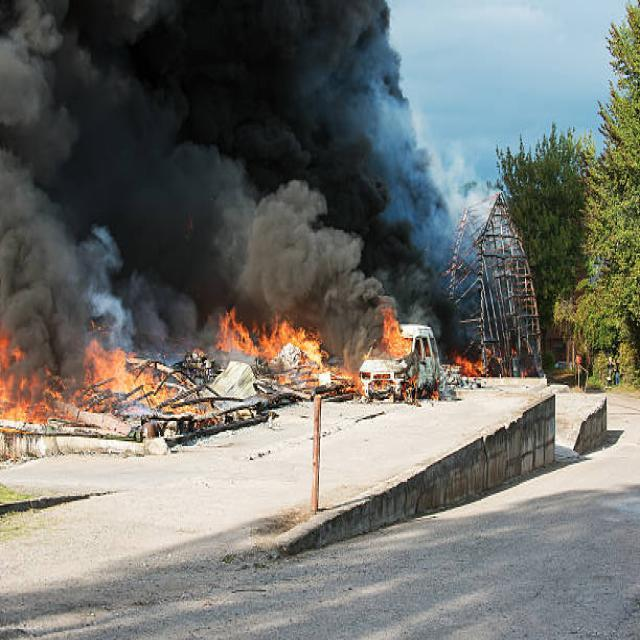Fire: (1, 313, 453, 413), (454, 333, 504, 377)
